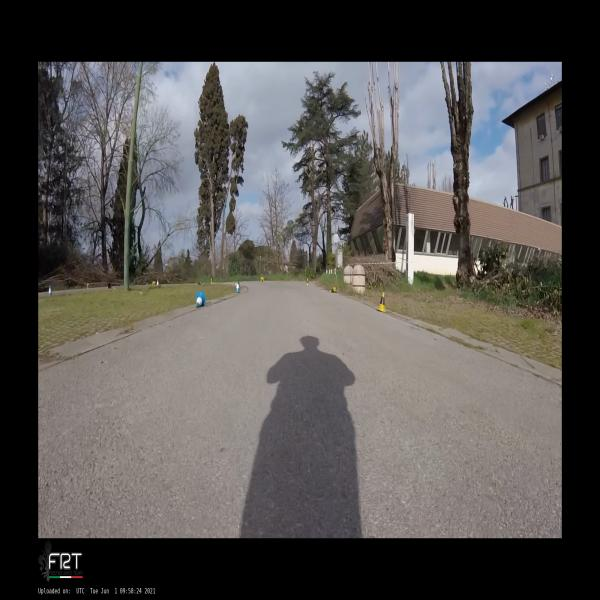blue_cone: (196, 292, 205, 308), (235, 281, 240, 293), (48, 285, 52, 295), (157, 279, 158, 285)
unknown_cone: (108, 283, 112, 288)
yellow_cone: (377, 292, 386, 312), (329, 286, 337, 293), (260, 277, 264, 282), (306, 278, 308, 286), (152, 281, 156, 285), (211, 278, 212, 284)
